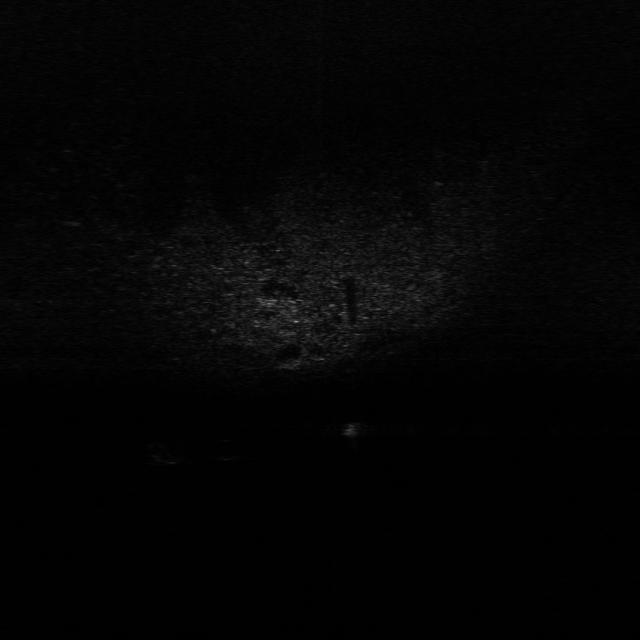ball: (210, 435, 242, 461)
circle cage: (138, 440, 186, 466)
cylinder: (343, 418, 366, 457)
